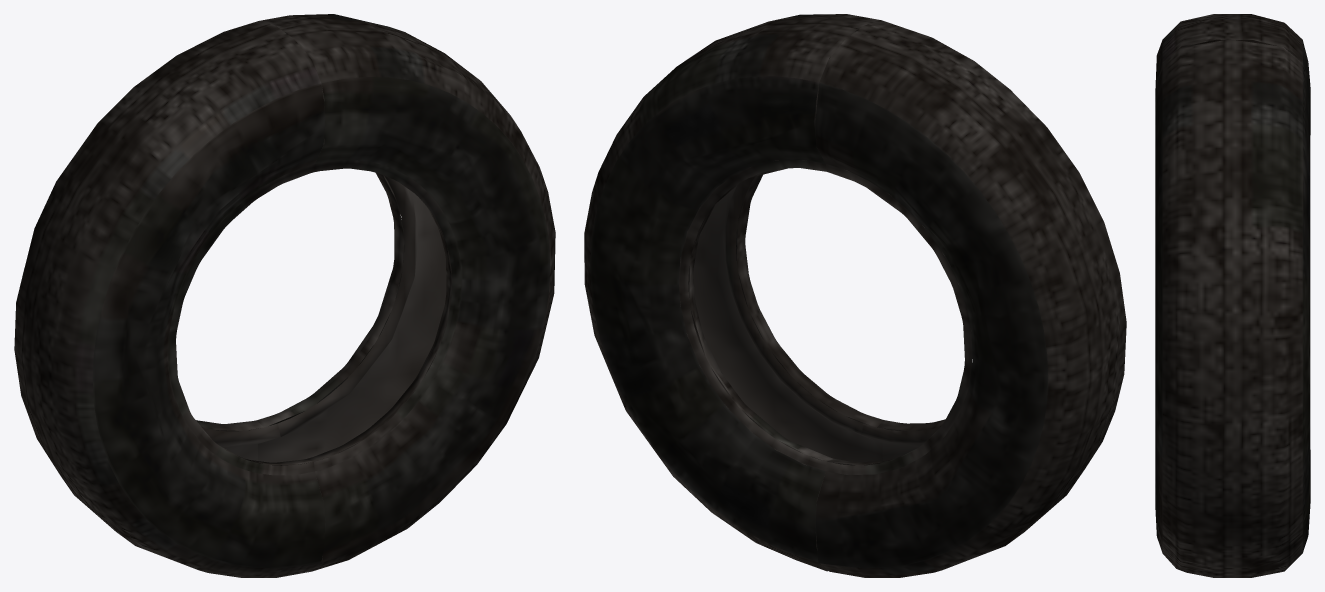
File: tyre.glb
3 views of the same model, side by side, from view 1: azimuth 30°, elevation 25°; view 2: azimuth 150°, elevation 25°; view 3: azimuth 270°, elevation 25° (orthographic). The views are drawn at different scales.
Visible parts, largest first — view 1: old_tyre; view 2: old_tyre; view 3: old_tyre.
Part boxes in pixels (x1,y1,x2,y2): old_tyre: [14, 14, 555, 577]; old_tyre: [584, 14, 1126, 577]; old_tyre: [1155, 14, 1310, 577].
Bounding box in the file's own units: 0.6002 × 0.6035 × 0.1654.
1 material, 1 textured.
